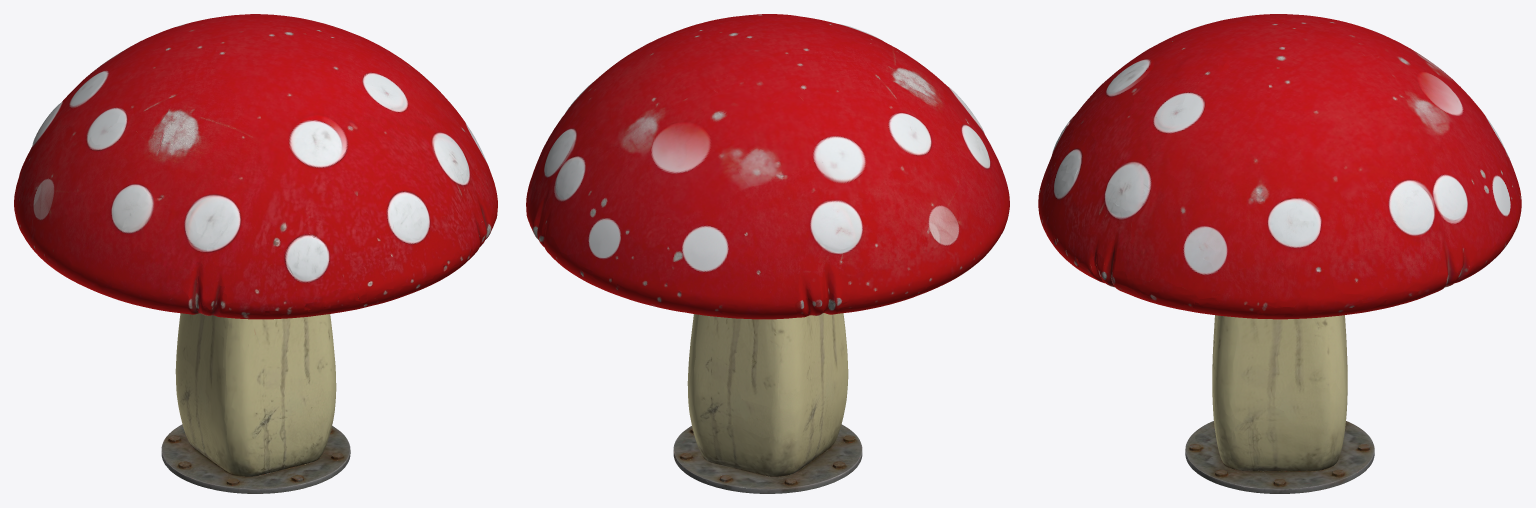
The model's file is fungo_fontana_4k.glb.
3 renders of one model, left to right at view 1: azimuth 30°, elevation 25°; view 2: azimuth 150°, elevation 25°; view 3: azimuth 270°, elevation 25°, orthographic.
Parts seen in each view (by area): view 1: Mesh_0; view 2: Mesh_0; view 3: Mesh_0.
Part boxes in pixels (x1,y1,x2,y2): Mesh_0: (14, 14, 497, 493); Mesh_0: (526, 14, 1009, 493); Mesh_0: (1038, 14, 1521, 493).
Size of the model in its own units: 1.9 by 1.8 by 1.9.
1 material, 1 textured.
